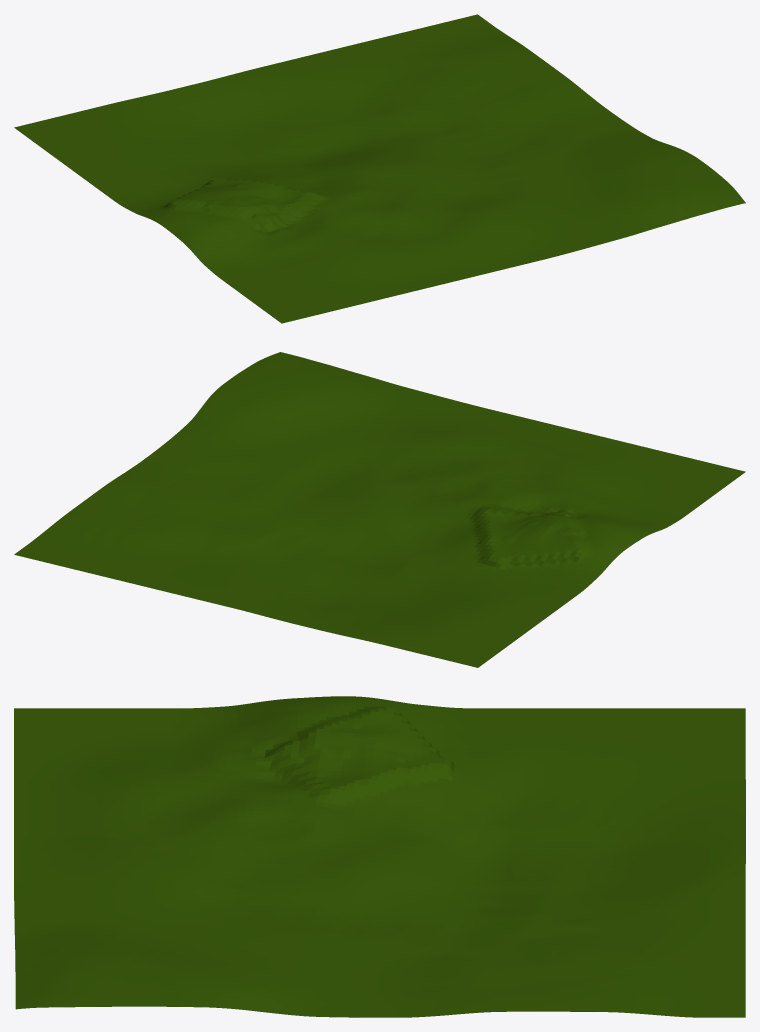
The model's file is terrain.fbx.
3 views of the same model, one above another, from view 1: azimuth 30°, elevation 25°; view 2: azimuth 150°, elevation 25°; view 3: azimuth 270°, elevation 25° (orthographic). The views are drawn at different scales.
Visible parts, largest first — view 1: Terrain; view 2: Terrain; view 3: Terrain.
Boxes of the visible parts, bbox=[...] form: Terrain: bbox=[14, 14, 745, 323]; Terrain: bbox=[14, 352, 745, 667]; Terrain: bbox=[14, 696, 745, 1017].
Size of the model in its own units: 50677 by 3051 by 50013.
